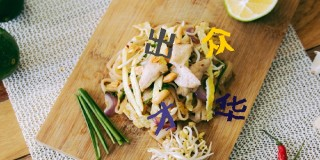众: (200, 25, 235, 54)
出: (143, 26, 176, 57)
华: (215, 92, 248, 122)
才: (146, 102, 178, 136)
